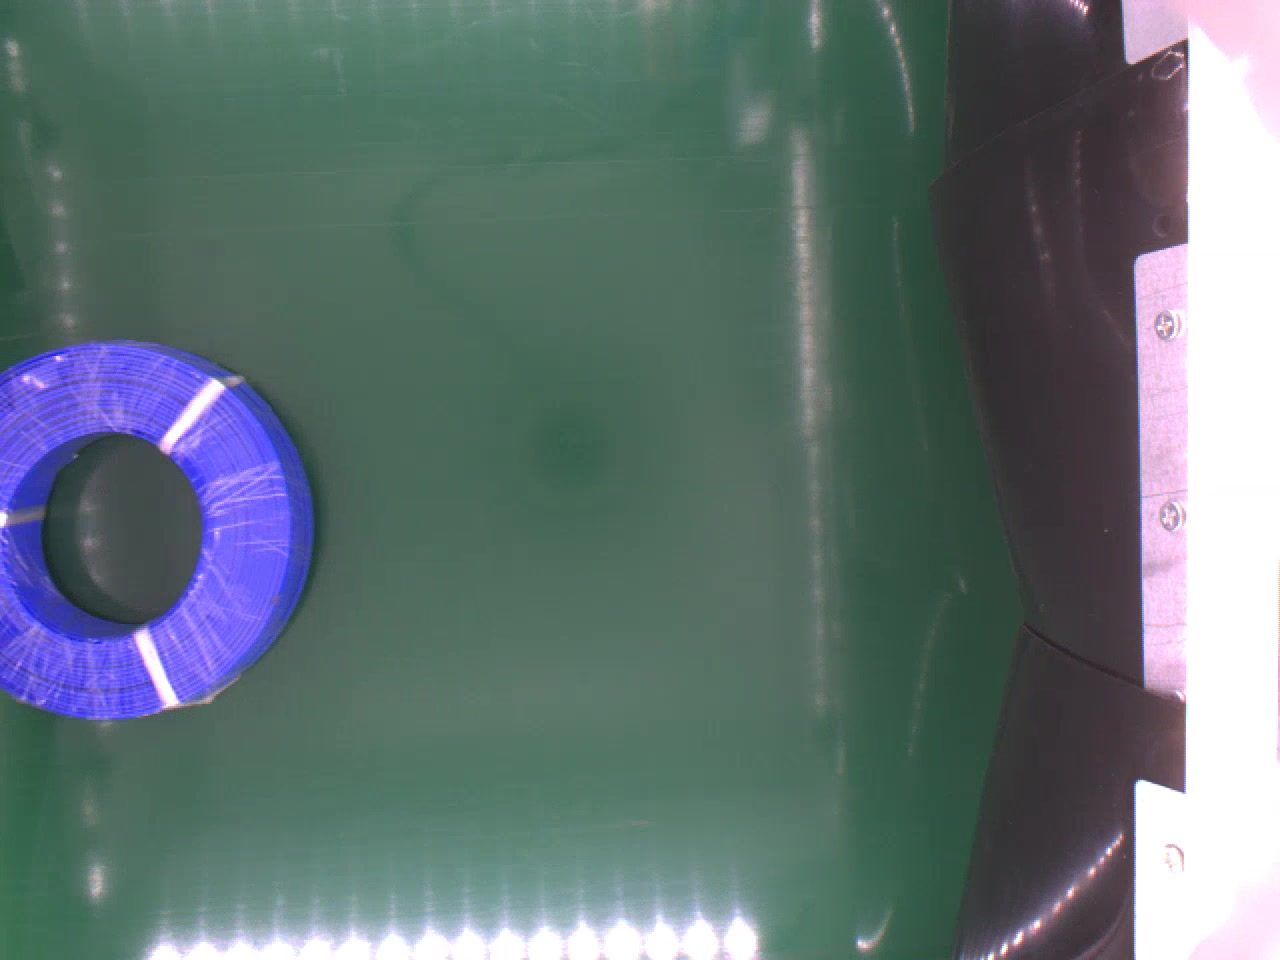blue: (0, 340, 310, 713)
